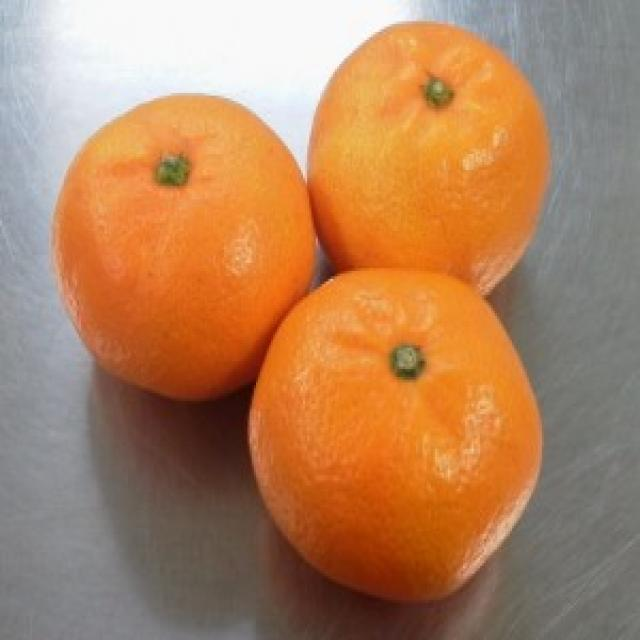Orange: (247, 262, 539, 606), (58, 92, 313, 398), (309, 19, 547, 290)
